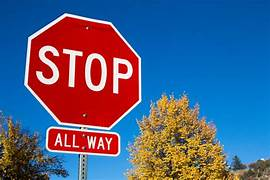stop: (24, 13, 142, 129)
